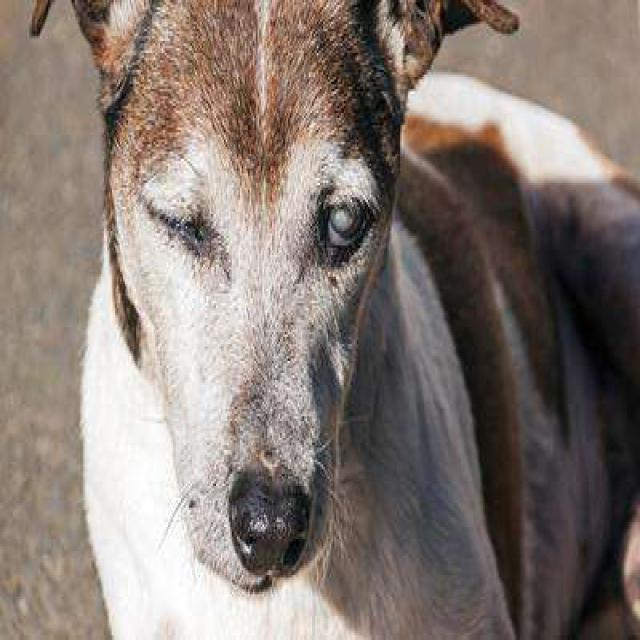eye: (312, 182, 378, 263)
